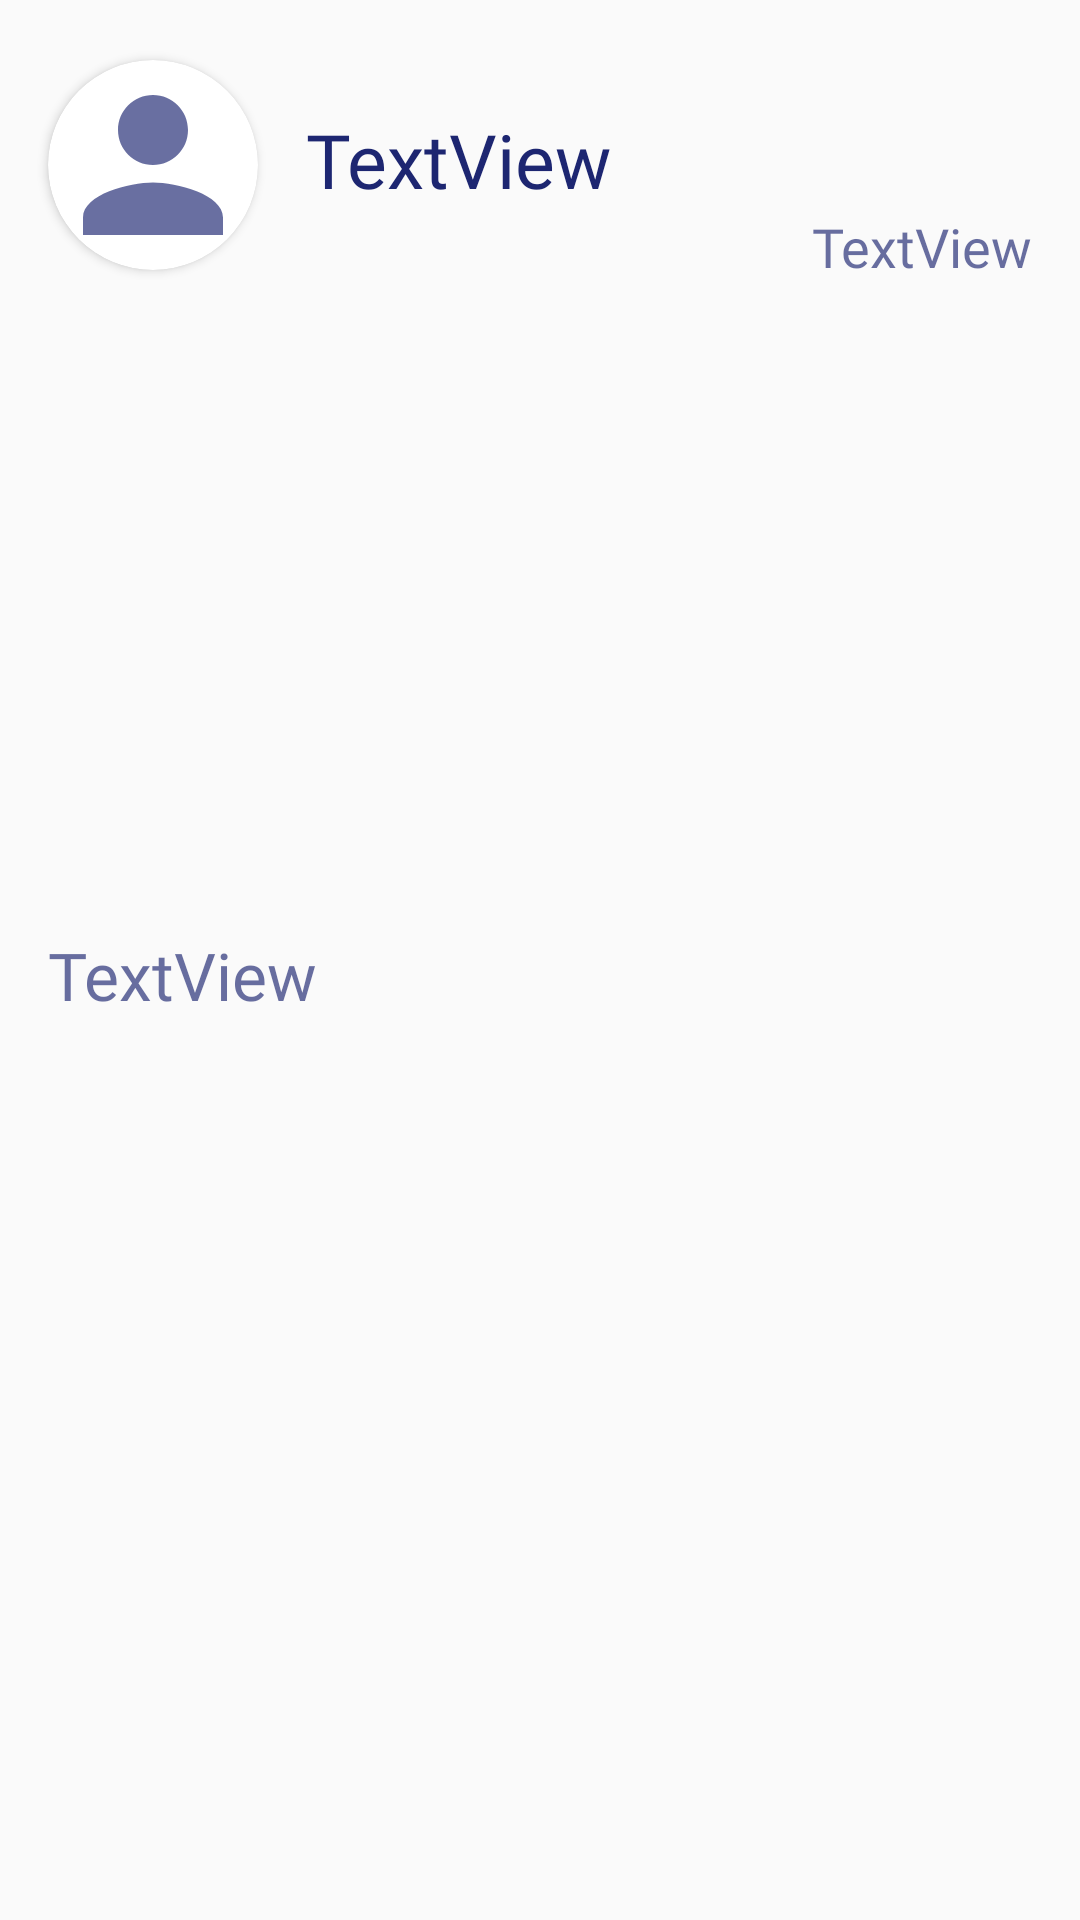

Where to tap for icons on this 1080w x 1920h app screen, as (x=x, y=y):
person: (x=135, y=182)
